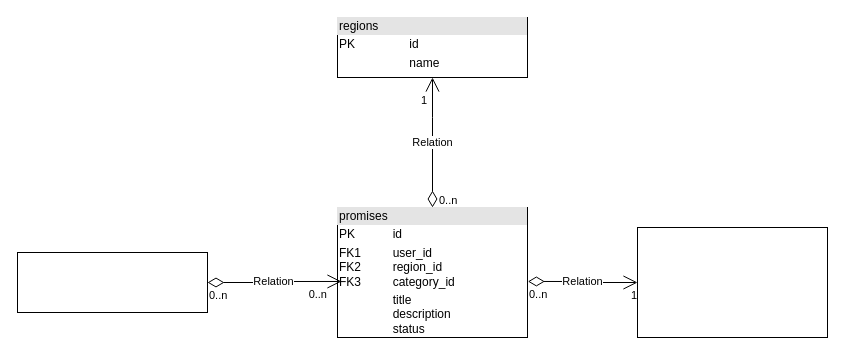
This 845x355 diagram has some shape labels left out. Each missing label, with the centre of its shape:
categories PK id name: point 112,282
users PK id name email password role: point 732,282
